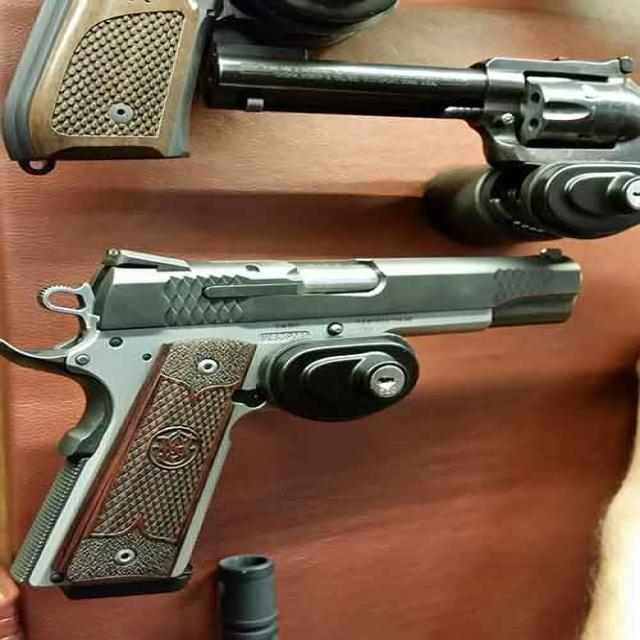HandGun: (0, 249, 582, 601)
